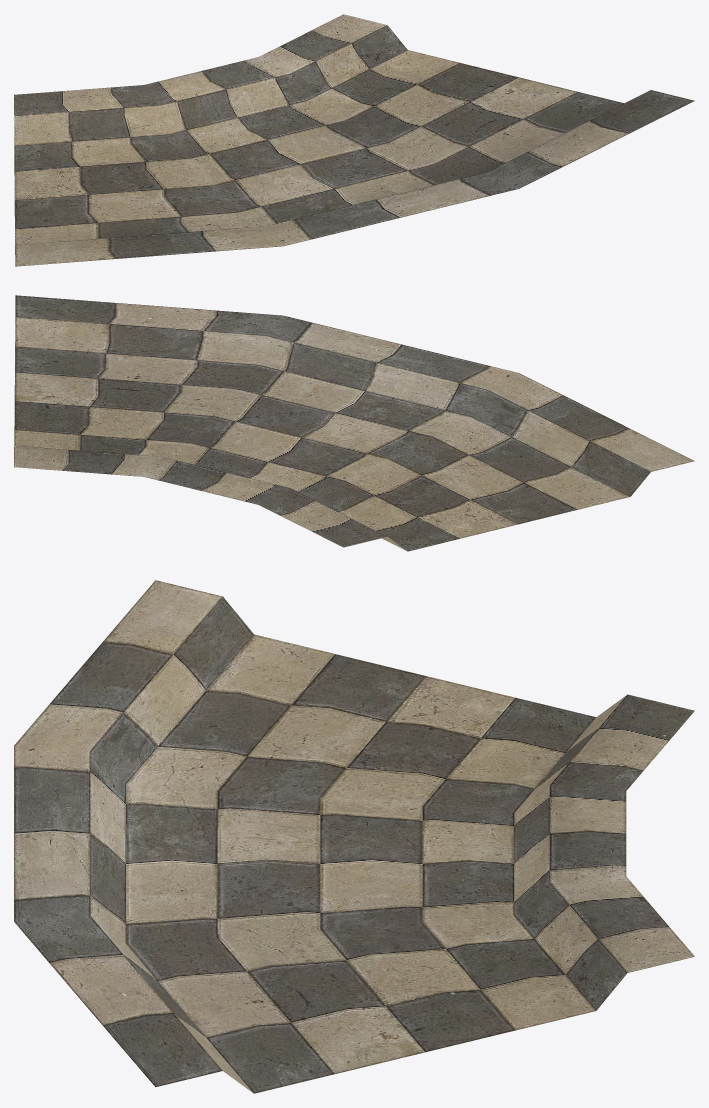
File: floor_curved.fbx
3 renders of one model, top to bottom at view 1: azimuth 30°, elevation 25°; view 2: azimuth 150°, elevation 25°; view 3: azimuth 270°, elevation 25°, orthographic. The views are drawn at different scales.
Parts seen in each view (by area): view 1: pPlane1; view 2: pPlane1; view 3: pPlane1.
Boxes of the visible parts, x1=… form: pPlane1: x1=14, y1=14, x2=694, y2=266; pPlane1: x1=14, y1=295, x2=694, y2=551; pPlane1: x1=14, y1=580, x2=694, y2=1093.
Size of the model in its own units: 77.21 by 2.15 by 43.82.
